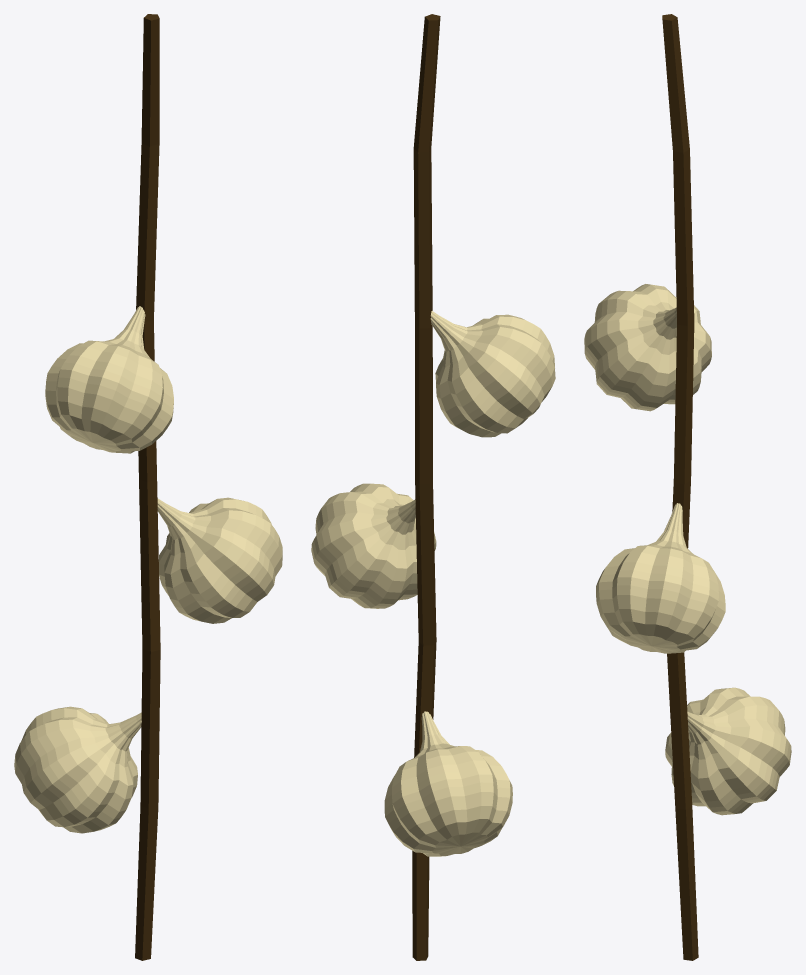
Rendered from GarlicString.fbx.
3 renders of one model, left to right at view 1: azimuth 30°, elevation 25°; view 2: azimuth 150°, elevation 25°; view 3: azimuth 270°, elevation 25°, orthographic.
Visible parts, largest first — view 1: String, Garlic.001, Garlic, Garlic.002; view 2: String, Garlic, Garlic.002, Garlic.001; view 3: String, Garlic.001, Garlic, Garlic.002.
Boxes of the visible parts, x1=… form: String: x1=135, y1=14, x2=160, y2=960; Garlic.001: x1=157, y1=497, x2=282, y2=623; Garlic: x1=14, y1=706, x2=141, y2=833; Garlic.002: x1=45, y1=306, x2=173, y2=453; String: x1=412, y1=14, x2=440, y2=960; Garlic: x1=384, y1=711, x2=512, y2=856; Garlic.002: x1=430, y1=311, x2=555, y2=437; Garlic.001: x1=311, y1=483, x2=436, y2=608; String: x1=662, y1=14, x2=698, y2=960; Garlic.001: x1=596, y1=503, x2=725, y2=653; Garlic: x1=665, y1=687, x2=791, y2=815; Garlic.002: x1=584, y1=284, x2=711, y2=411.
Bounding box in the file's own units: 441 × 1775 × 355.
